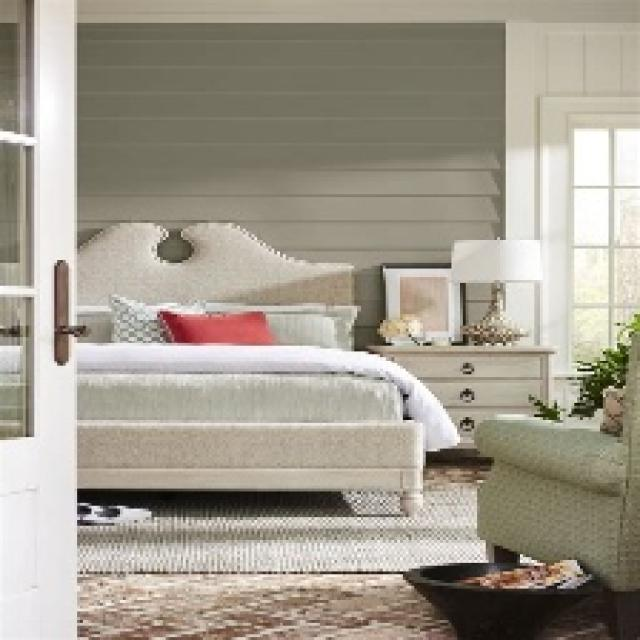Bed: (0, 217, 454, 517)
